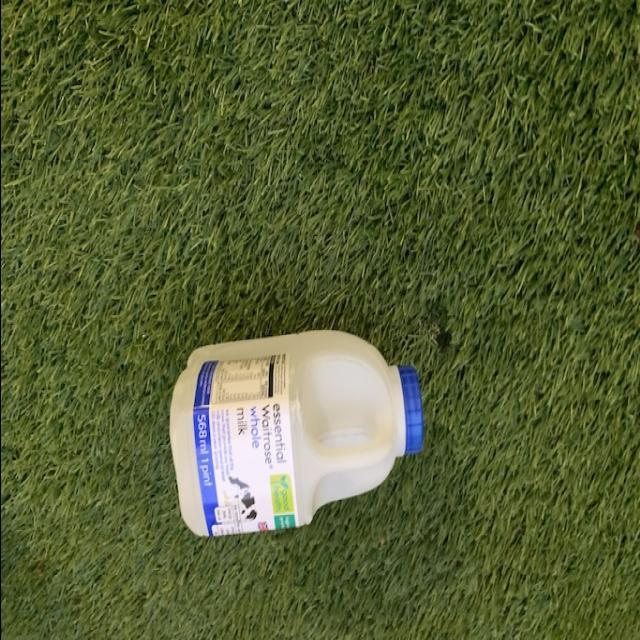litter: (164, 327, 426, 545)
